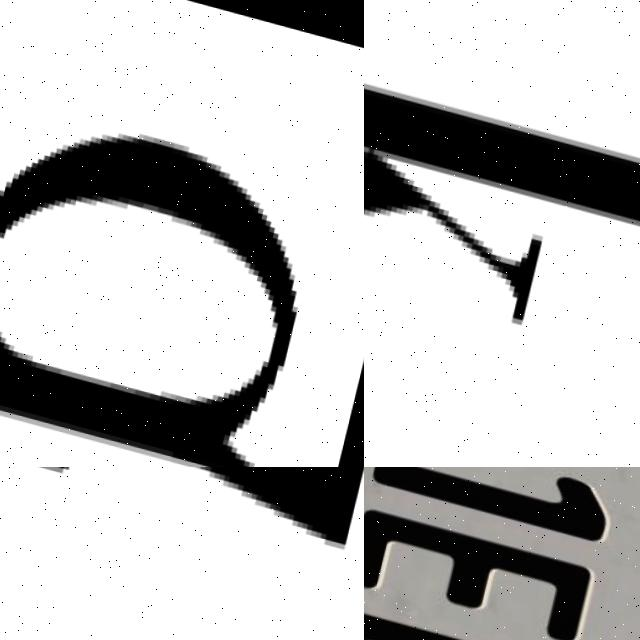1: (371, 467, 619, 538)
E: (364, 502, 599, 640), (364, 602, 578, 640)
K: (364, 7, 640, 382)
Q: (0, 35, 344, 467)
Z: (0, 467, 364, 550)
